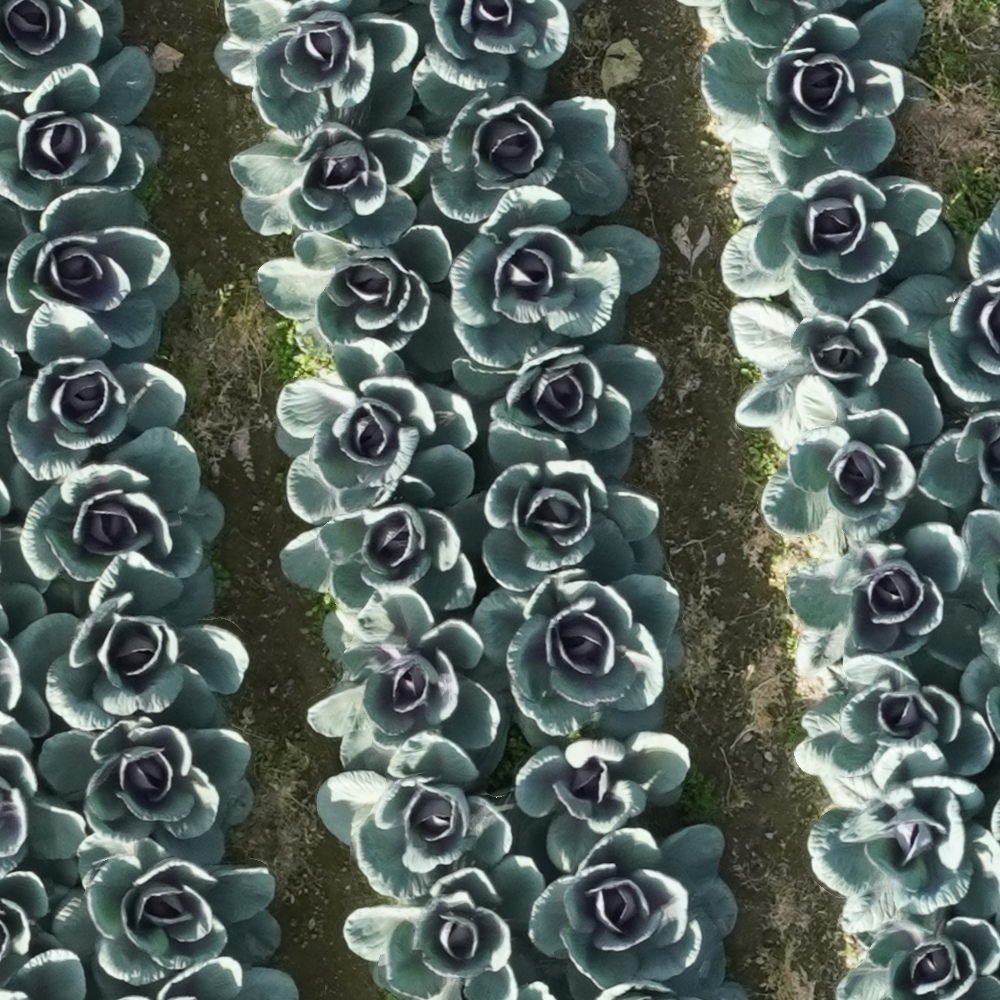Cabbage: (723, 130, 960, 315), (9, 551, 249, 732), (11, 428, 225, 614), (51, 833, 283, 1000), (448, 187, 660, 368), (275, 338, 478, 527), (470, 569, 685, 747), (701, 0, 924, 171), (305, 588, 510, 773), (445, 422, 666, 592), (526, 826, 739, 1000), (727, 284, 947, 451), (228, 66, 430, 247), (808, 742, 1000, 932), (408, 85, 631, 248), (314, 731, 516, 903), (0, 303, 187, 482), (280, 477, 477, 641), (39, 717, 254, 866), (0, 188, 182, 363), (256, 225, 467, 372), (786, 522, 984, 678), (0, 45, 161, 234), (449, 342, 665, 478), (341, 858, 545, 1000), (760, 376, 918, 557), (214, 0, 420, 138), (507, 732, 690, 870), (793, 656, 996, 780), (886, 201, 1000, 406), (396, 1, 582, 119), (0, 711, 88, 886), (836, 907, 1000, 1000), (0, 1, 125, 105), (677, 0, 847, 68), (0, 871, 71, 988), (918, 410, 1000, 511), (0, 581, 52, 737), (118, 957, 299, 1000), (953, 508, 1000, 666), (0, 478, 47, 594), (0, 949, 87, 1000), (959, 653, 1000, 742), (597, 982, 748, 1000), (988, 800, 1000, 846)
